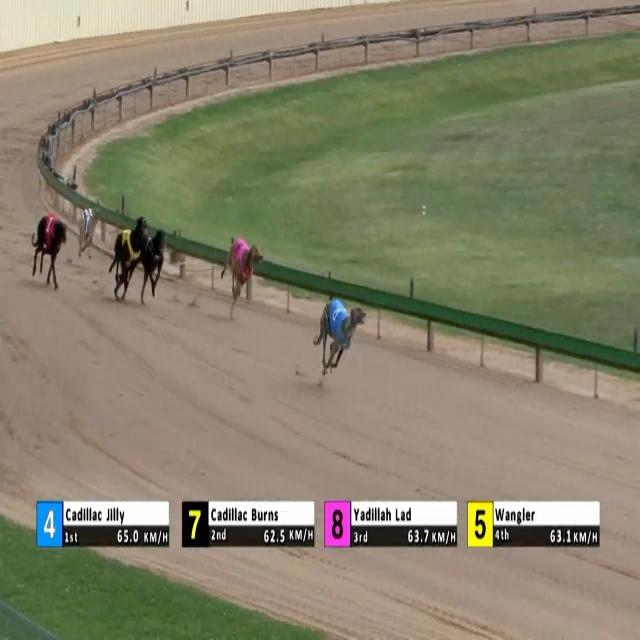dog_eight: (226, 238, 264, 296)
dog_five: (118, 226, 144, 278)
dog_four: (318, 294, 358, 352)
dog_one: (44, 216, 64, 252)
dog_seven: (147, 229, 170, 280)
dog_two: (80, 202, 102, 239)
rail: (39, 5, 639, 372)
